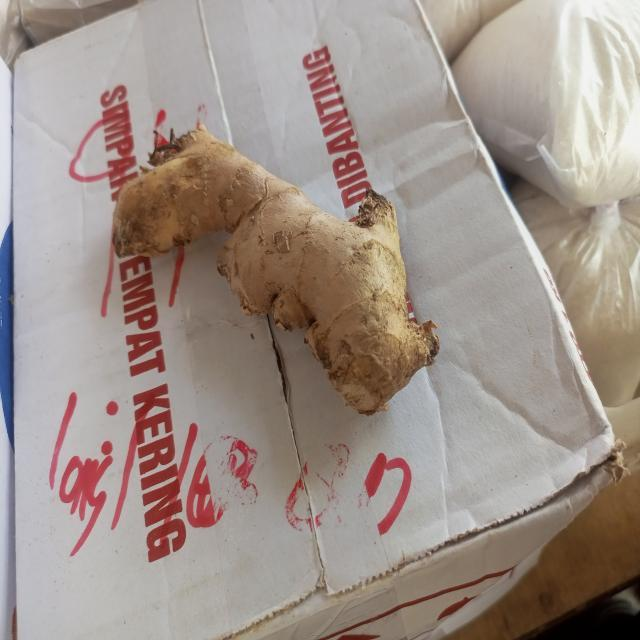ginger: (112, 127, 436, 412)
